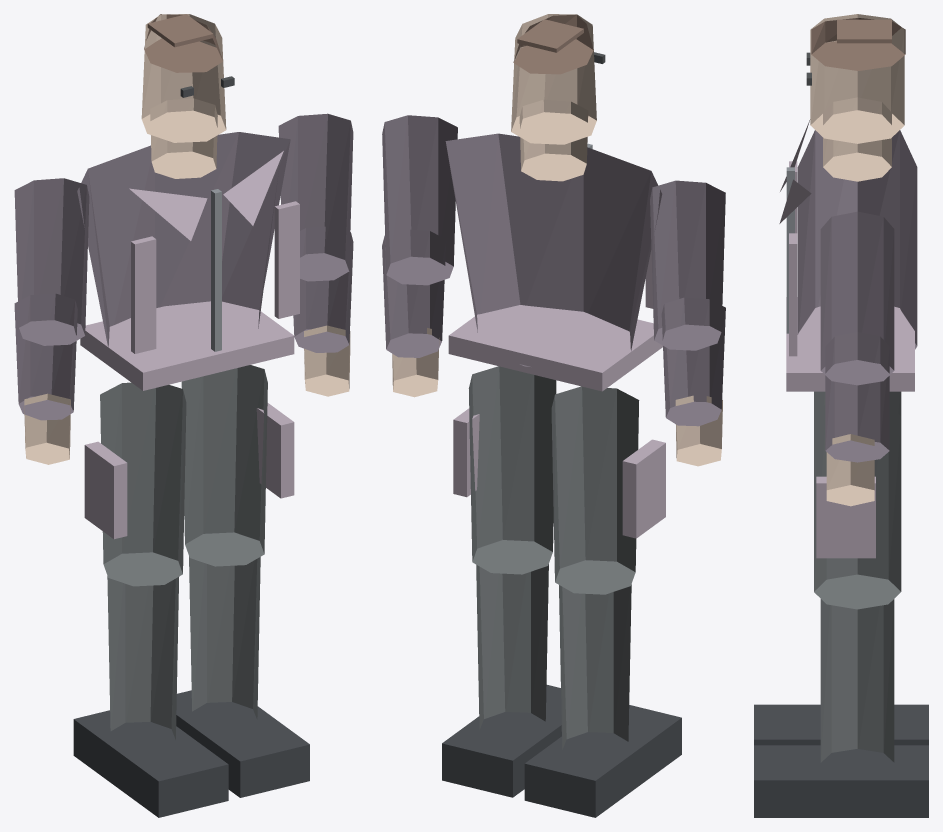
The model's file is mystery_character_plum.glb.
The picture shows the model from 3 angles, left to right: view 1: azimuth 30°, elevation 25°; view 2: azimuth 150°, elevation 25°; view 3: azimuth 270°, elevation 25°; orthographic projection. The views are drawn at different scales.
Visible parts, largest first — view 1: Jacket, Thigh.R, Thigh.L, Hem, Shoe.L, UpperArm.L, Shin.R, Shin.L, UpperArm.R, Shoe.R, Forearm.L, Head (+12 smaller); view 2: Jacket, Thigh.R, Thigh.L, Hem, UpperArm.R, Shoe.L, UpperArm.L, Shin.L, Shin.R, Shoe.R, Forearm.L, Head (+8 smaller); view 3: Shoe.R, Jacket, Shin.R, UpperArm.R, Thigh.R, Head, Forearm.R, Shoe.L, Hem, Pocket.R, Neck, Hair (+6 smaller).
Part boxes in pixels (left/top/right/bottom): Jacket: left=77, top=132, right=290, bottom=347; Thigh.R: left=181, top=365, right=267, bottom=566; Thigh.L: left=100, top=382, right=186, bottom=586; Hem: left=80, top=301, right=294, bottom=390; Shoe.L: left=73, top=710, right=228, bottom=817; UpperArm.L: left=14, top=178, right=89, bottom=345; Shin.R: left=189, top=556, right=260, bottom=719; Shin.L: left=107, top=576, right=178, bottom=739; UpperArm.R: left=278, top=113, right=353, bottom=281; Shoe.R: left=176, top=690, right=309, bottom=797; Forearm.L: left=14, top=293, right=77, bottom=420; Head: left=141, top=14, right=226, bottom=142; Jacket: left=445, top=133, right=662, bottom=366; Thigh.R: left=468, top=366, right=556, bottom=574; Thigh.L: left=551, top=386, right=639, bottom=594; Hem: left=448, top=305, right=662, bottom=391; UpperArm.R: left=382, top=115, right=457, bottom=285; Shoe.L: left=524, top=705, right=681, bottom=817; UpperArm.L: left=650, top=180, right=725, bottom=350; Shin.L: left=559, top=584, right=631, bottom=749; Shin.R: left=476, top=564, right=548, bottom=730; Shoe.R: left=442, top=685, right=561, bottom=797; Forearm.L: left=661, top=297, right=725, bottom=426; Head: left=511, top=14, right=596, bottom=144; Shoe.R: left=754, top=745, right=928, bottom=817; Jacket: left=797, top=130, right=917, bottom=349; Shin.R: left=820, top=599, right=894, bottom=762; UpperArm.R: left=820, top=211, right=894, bottom=385; Thigh.R: left=814, top=404, right=901, bottom=609; Head: left=810, top=14, right=904, bottom=143; Forearm.R: left=825, top=332, right=889, bottom=462; Shoe.L: left=754, top=704, right=928, bottom=745; Hem: left=786, top=297, right=914, bottom=391; Pocket.R: left=816, top=476, right=875, bottom=558; Neck: left=823, top=97, right=891, bottom=181; Hair: left=811, top=18, right=905, bottom=70.
Bounding box in the file's own units: 0.86 × 1.8 × 0.38.
